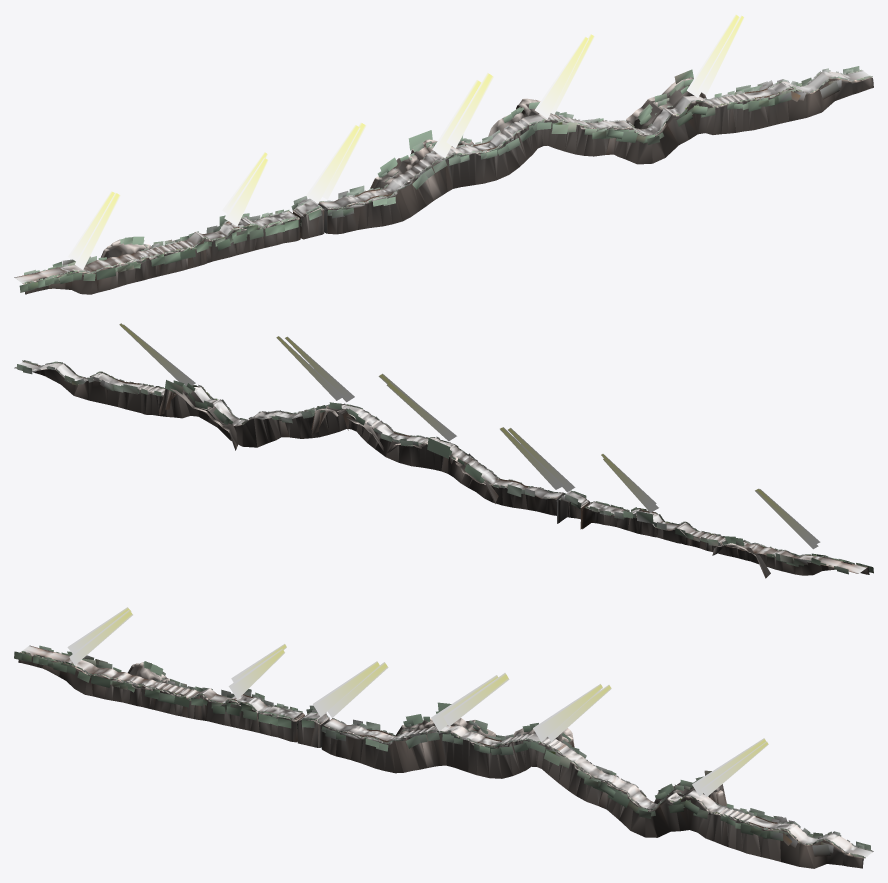
Rendered from Forest_14.fbx.
The picture shows the model from 3 angles, top to bottom: view 1: azimuth 30°, elevation 25°; view 2: azimuth 150°, elevation 25°; view 3: azimuth 330°, elevation 25°; orthographic projection.
Parts seen in each view (by area): view 1: Mountain_01, Tree_01, Light_01, Ground_01; view 2: Mountain_01, Tree_01, Light_01, Ground_01; view 3: Mountain_01, Tree_01, Light_01, Ground_01.
Boxes of the visible parts, x1,y1,x2,y2 form: Mountain_01: [23, 77, 873, 294]; Tree_01: [19, 66, 872, 292]; Light_01: [68, 14, 744, 269]; Ground_01: [14, 71, 869, 283]; Mountain_01: [23, 361, 869, 578]; Tree_01: [15, 360, 873, 574]; Light_01: [119, 323, 820, 549]; Ground_01: [14, 361, 866, 573]; Mountain_01: [18, 652, 864, 868]; Tree_01: [14, 645, 873, 858]; Light_01: [67, 607, 768, 797]; Ground_01: [21, 645, 873, 857].
Size of the model in its own units: 80902 by 12017 by 3732.
